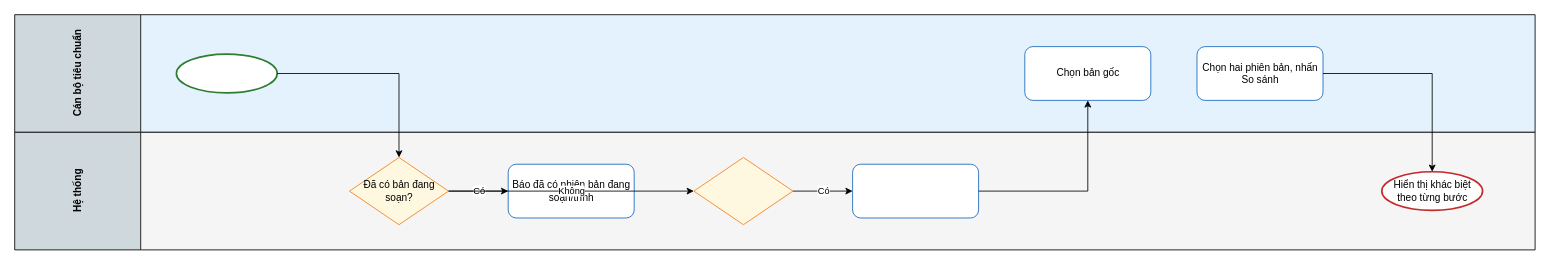
This 1550x265 diagram has some shape labels left out. The shapes that lost their labels are listed below. From the top down, each one's centre as x and y in pixels, then its label:
At pixel 226 73: "Nhấn Tạo phiên bản mới".
At pixel 743 191: "Có cả bản đang và chờ áp dụng?".
At pixel 915 190: "Hỏi chọn bản gốc".
